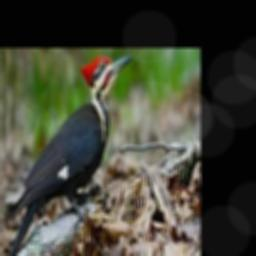Woodpecker: (3, 56, 132, 256)
